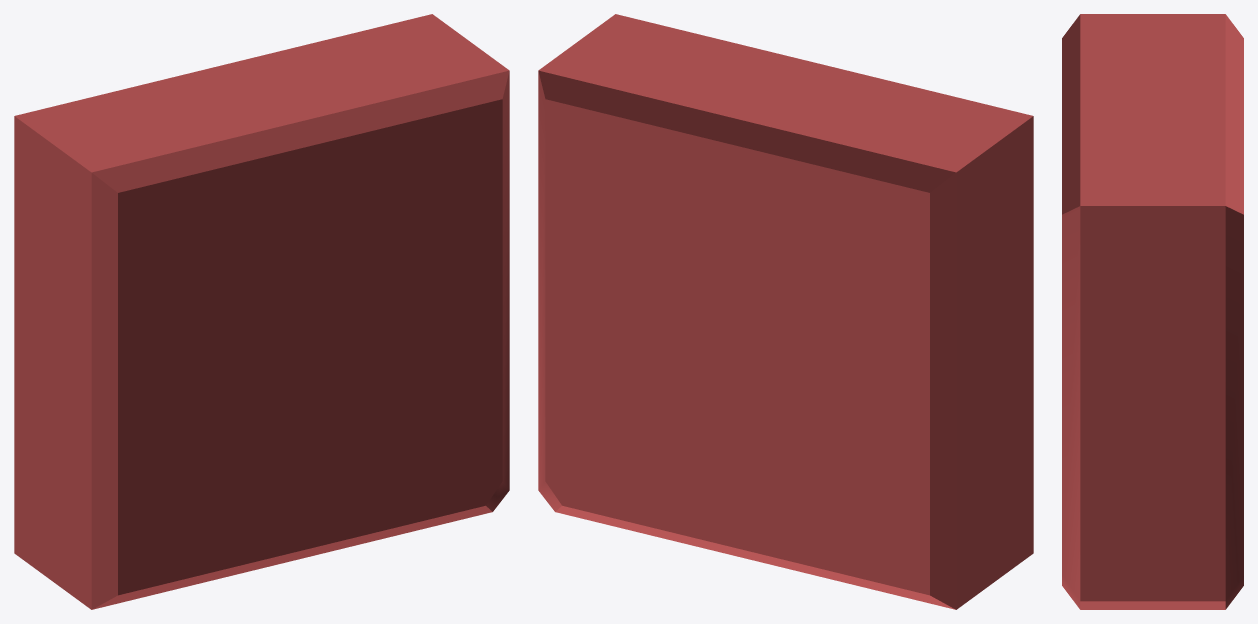
Rendered from SM_Wall_50x50.fbx.
The picture shows the model from 3 angles, left to right: view 1: azimuth 30°, elevation 25°; view 2: azimuth 150°, elevation 25°; view 3: azimuth 270°, elevation 25°; orthographic projection. The views are drawn at different scales.
Parts seen in each view (by area): view 1: SM_Wall_50x50:Wall_50x50; view 2: SM_Wall_50x50:Wall_50x50; view 3: SM_Wall_50x50:Wall_50x50.
Boxes of the visible parts, x1,y1,x2,y2 form: SM_Wall_50x50:Wall_50x50: (14, 14, 509, 609); SM_Wall_50x50:Wall_50x50: (538, 14, 1033, 609); SM_Wall_50x50:Wall_50x50: (1062, 14, 1243, 609).
Size of the model in its own units: 50 by 50 by 20.
